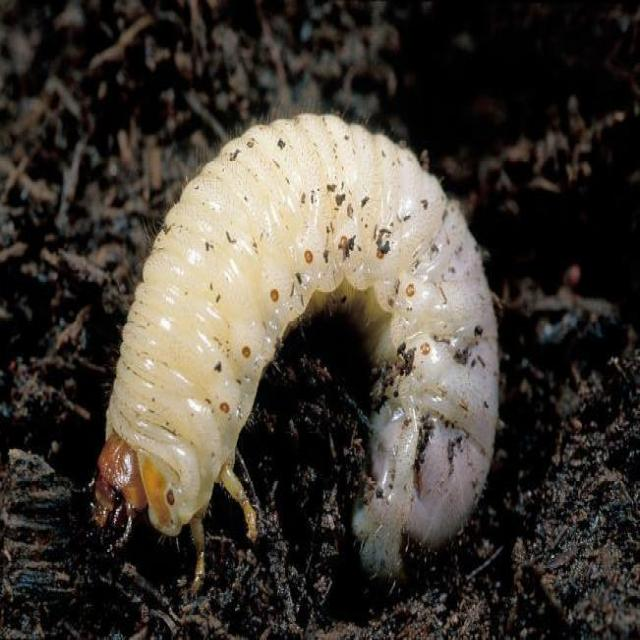Grub-Adult-: (73, 108, 515, 577)
